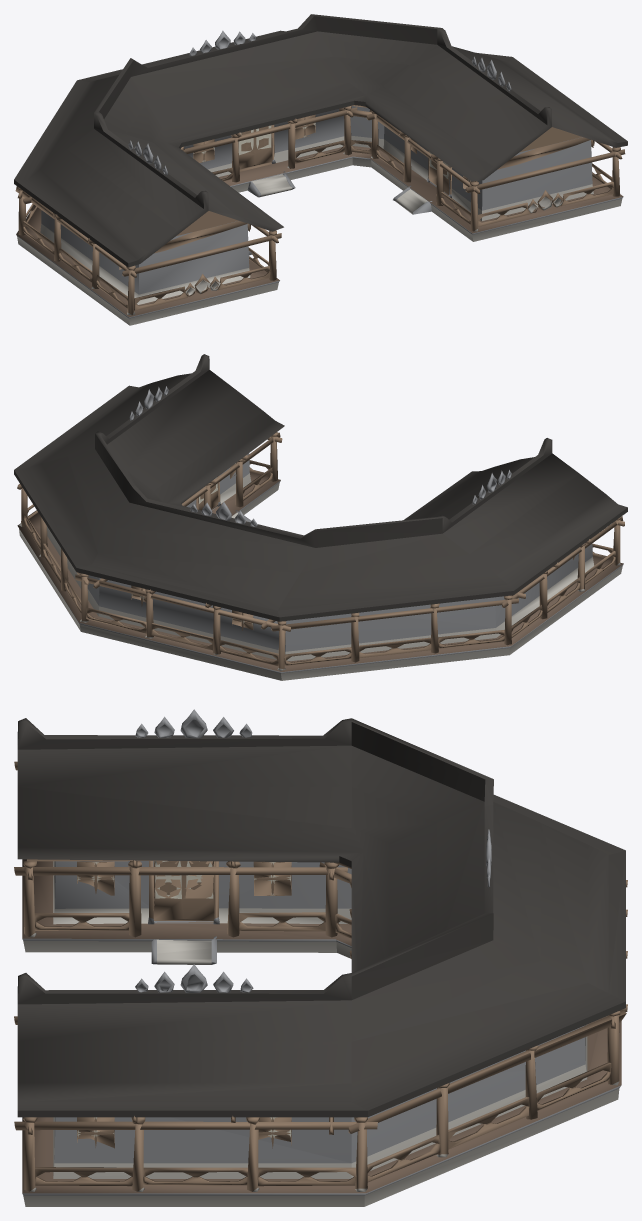
The model's file is jp_house_2.glb.
The picture shows the model from 3 angles, top to bottom: view 1: azimuth 30°, elevation 25°; view 2: azimuth 150°, elevation 25°; view 3: azimuth 270°, elevation 25°; orthographic projection. The views are drawn at different scales.
Visible parts, largest first — view 1: jp_house_2; view 2: jp_house_2; view 3: jp_house_2.
Boxes of the visible parts, bbox=[...] form: jp_house_2: bbox=[14, 14, 627, 325]; jp_house_2: bbox=[14, 354, 627, 680]; jp_house_2: bbox=[14, 709, 627, 1206].
Size of the model in its own units: 26.9 by 6.35 by 18.74.
